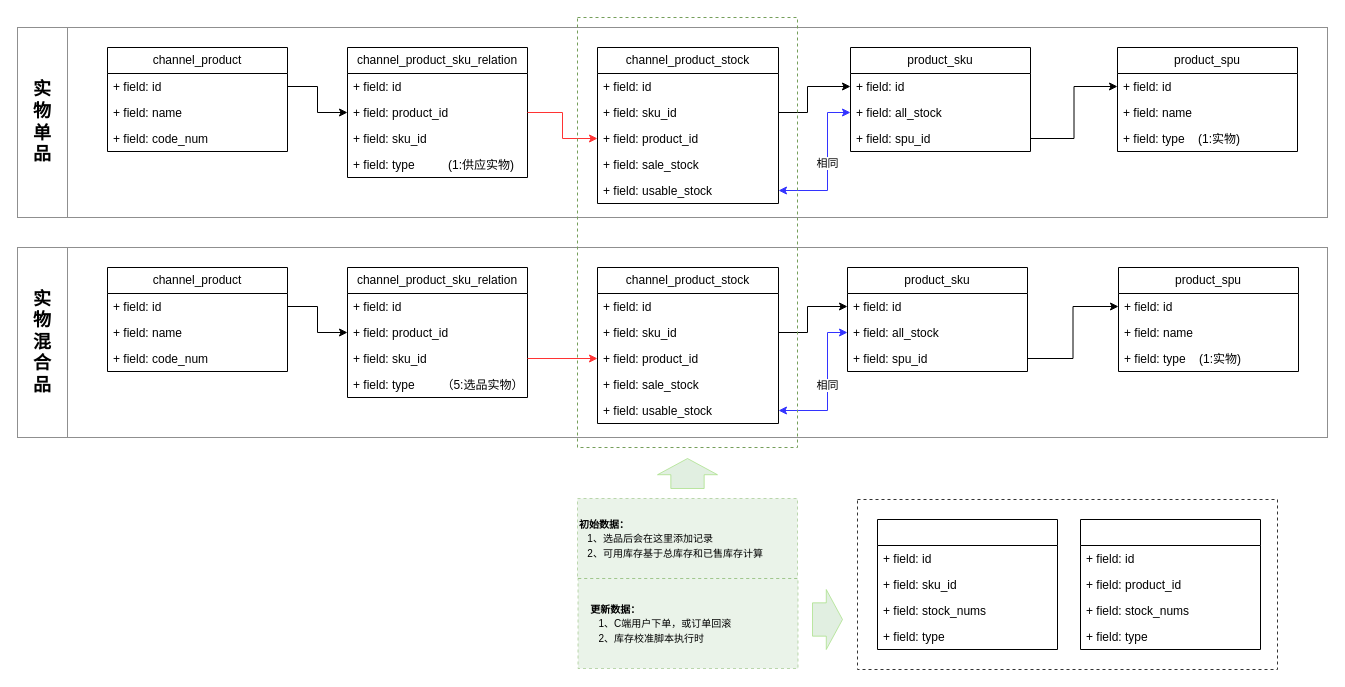
The diagram is 1345 pixels wide and 687 high, and some of its shapes have lost their labels. Here are the shapes that lost their labels. From the top down, the box of each, then its label:
(876, 518, 1058, 650): product_sku_stock_flow
(1080, 518, 1260, 650): channel_product_stock_flow
